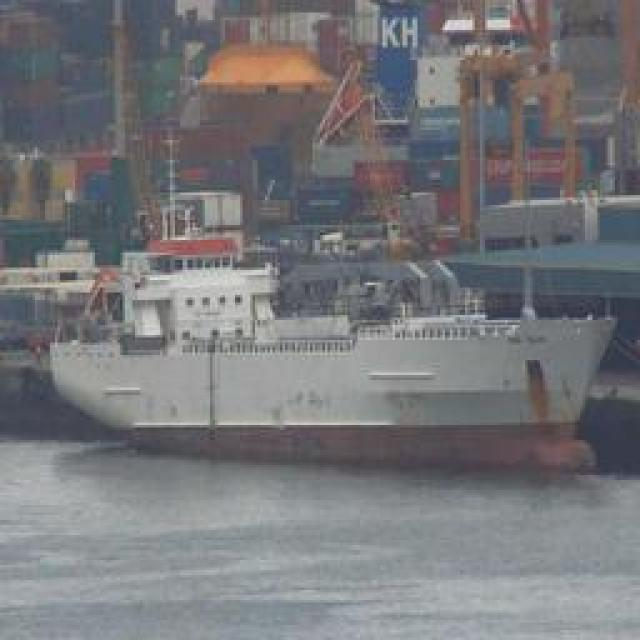CIV_Ship: (39, 192, 629, 458)
